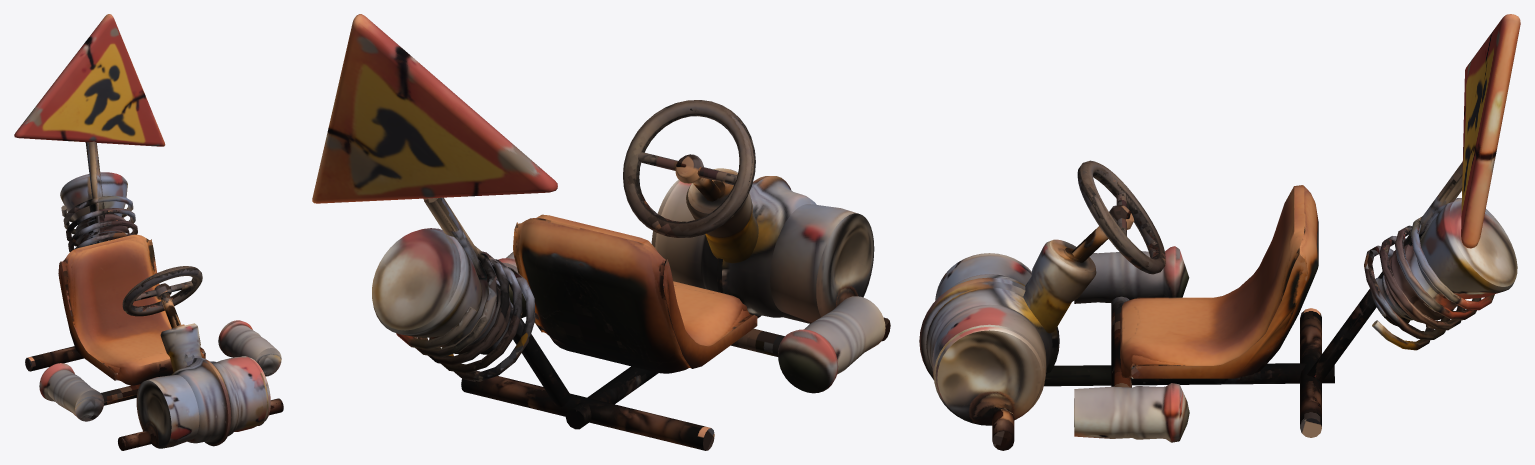
3 views of the same model, side by side, from view 1: azimuth 30°, elevation 25°; view 2: azimuth 150°, elevation 25°; view 3: azimuth 270°, elevation 25° (orthographic). The views are drawn at different scales.
Parts seen in each view (by area): view 1: body, steering_wheel; view 2: body, steering_wheel; view 3: body, steering_wheel.
Boxes of the visible parts, x1,y1,x2,y2 form: body: (14, 14, 283, 450); steering_wheel: (122, 266, 202, 316); body: (312, 14, 890, 450); steering_wheel: (623, 100, 755, 237); body: (919, 14, 1520, 450); steering_wheel: (1077, 160, 1165, 274).
Bounding box in the file's own units: 0.9974 × 1.25 × 1.52.
1 material, 1 textured.
